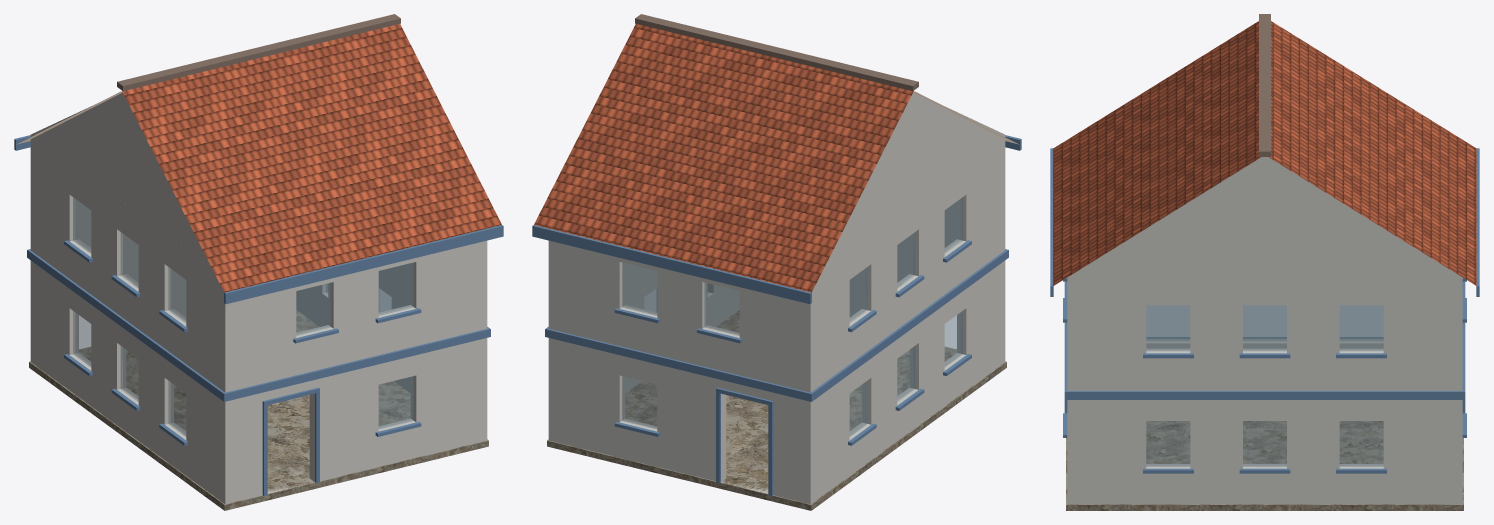
The model's file is cove-house-white.coast-v2.lod1.glb.
The picture shows the model from 3 angles, left to right: view 1: azimuth 30°, elevation 25°; view 2: azimuth 150°, elevation 25°; view 3: azimuth 270°, elevation 25°; orthographic projection.
Visible parts, largest first — view 1: cove-house-white; view 2: cove-house-white; view 3: cove-house-white.
Boxes of the visible parts, x1,y1,x2,y2 form: cove-house-white: (14,14,503,510); cove-house-white: (532,14,1021,510); cove-house-white: (1050,14,1479,510).
Size of the model in its own units: 7.42 by 9.11 by 9.78.
4 materials, 2 textured.
